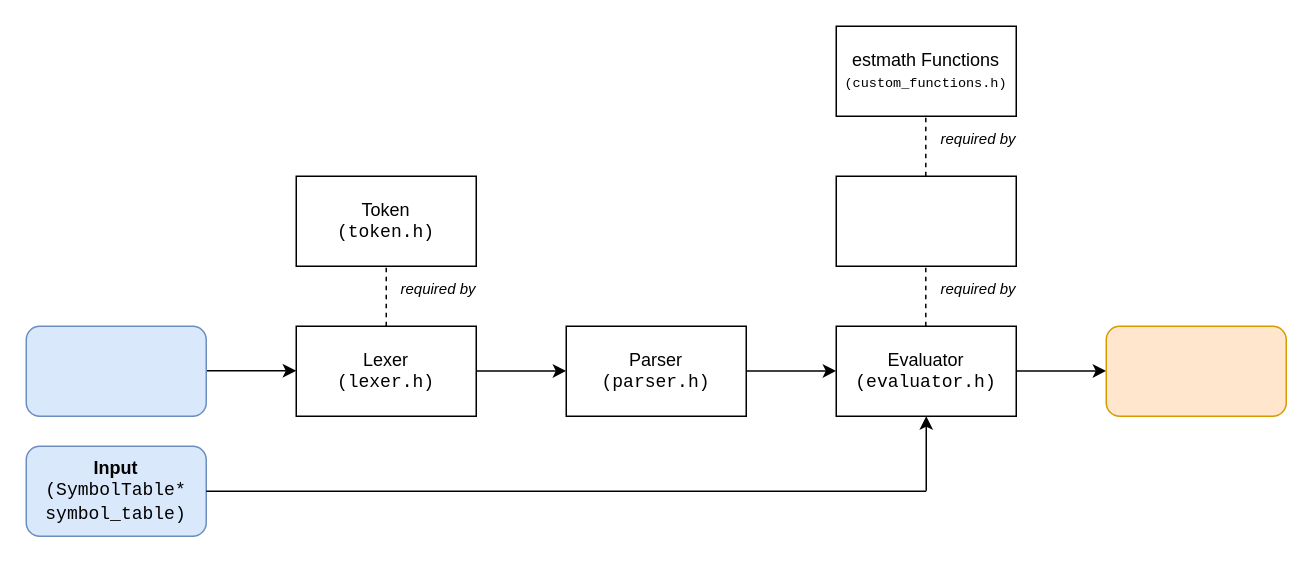
This 1313x563 diagram has some shape labels left out. Each missing label, with the centre of its shape:
"Functions (functions.h)" belongs at (925,220).
"Input (char* input)" belongs at (115,370).
"Output (double result)" belongs at (1195,370).
